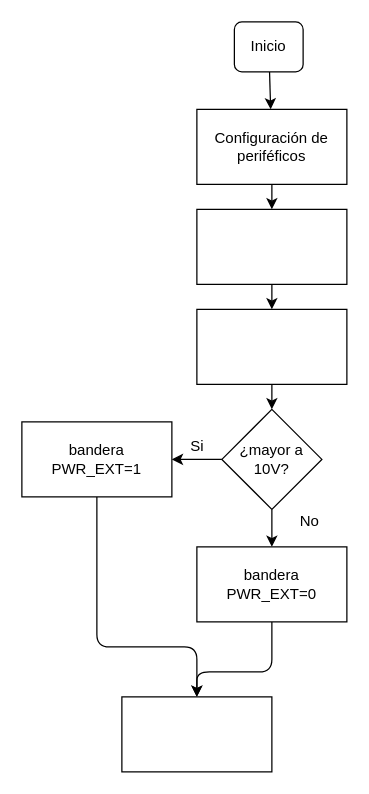
Image size: 369x794. Some labels were removed from this diagram. The box of each missing label's shape, as (x1, y1, x2, y2) in pixels:
Activar interruptor para bateria NiMH: (196, 208, 347, 284)
Verificar voltaje de alimentación (ADC7): (196, 308, 347, 384)
